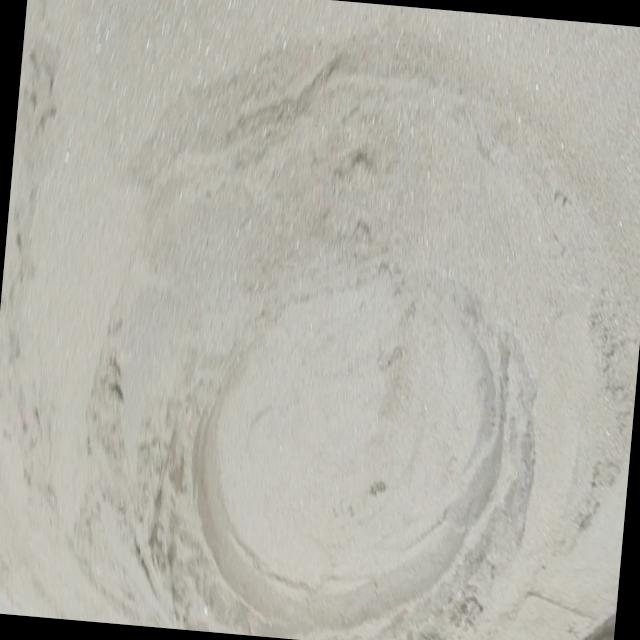C40: (196, 274, 536, 631)
